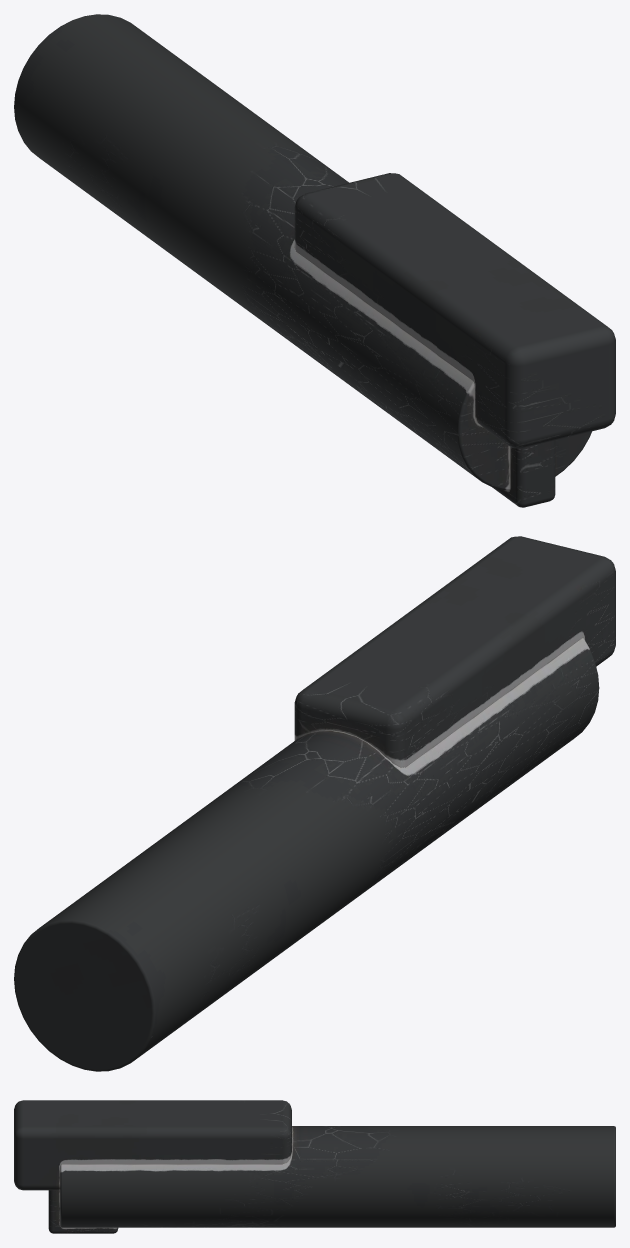
File: underbarrel_gl.gltf
The picture shows the model from 3 angles, top to bottom: view 1: azimuth 30°, elevation 25°; view 2: azimuth 150°, elevation 25°; view 3: azimuth 270°, elevation 25°; orthographic projection. The views are drawn at different scales.
Visible parts, largest first — view 1: Frame; view 2: Frame; view 3: Frame.
Boxes of the visible parts, x1=… form: Frame: x1=14, y1=14, x2=615, y2=507; Frame: x1=14, y1=536, x2=615, y2=1071; Frame: x1=14, y1=1100, x2=615, y2=1233.
Bounding box in the file's own units: 0.044 × 0.055 × 0.26.
2 materials, 2 textured.
